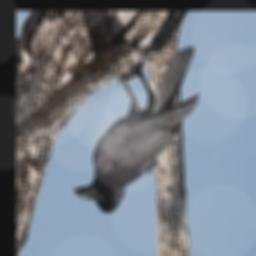Crow: (72, 45, 199, 214)
